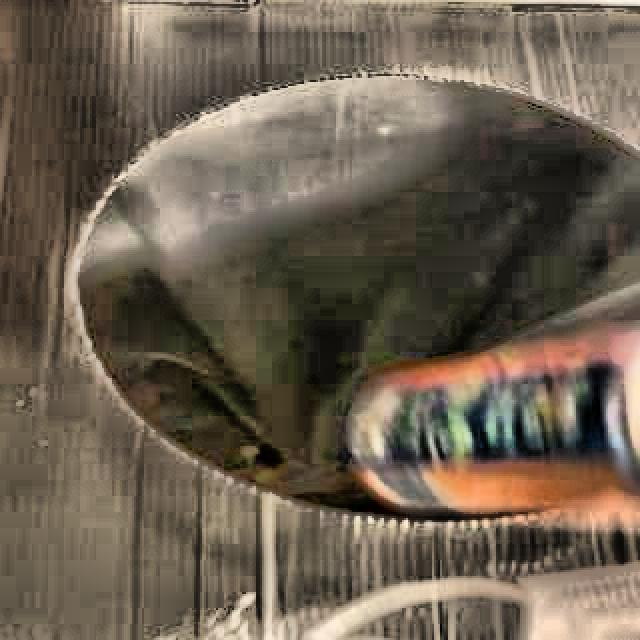metal: (349, 327, 640, 518)
